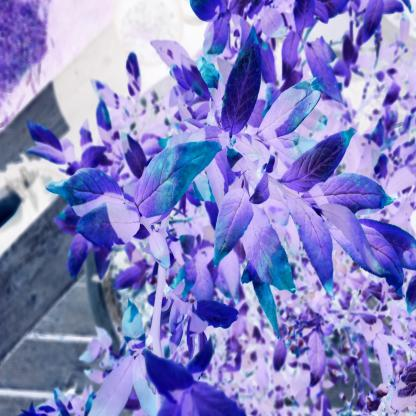Blueberry leaf: (293, 160, 401, 328), (212, 184, 294, 354), (87, 302, 195, 416), (44, 162, 145, 261), (252, 66, 351, 157), (283, 119, 365, 210), (135, 136, 223, 217), (213, 21, 263, 160)
